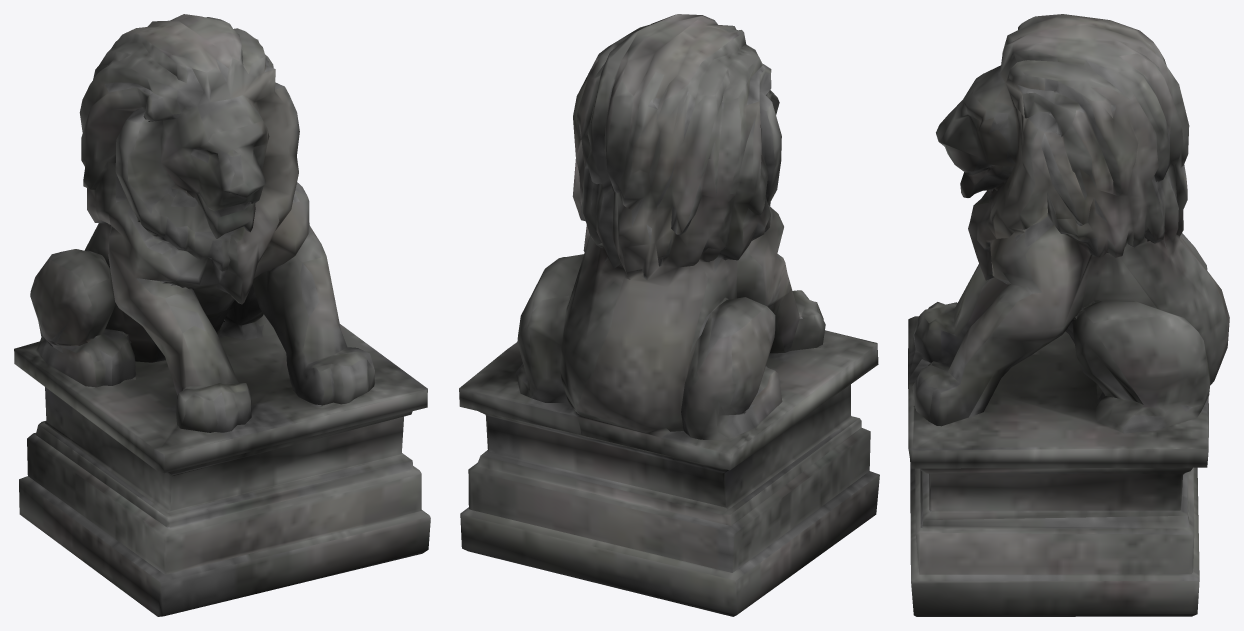
The model's file is rustic-granite-throne-v001.glb.
3 renders of one model, left to right at view 1: azimuth 30°, elevation 25°; view 2: azimuth 150°, elevation 25°; view 3: azimuth 270°, elevation 25°, orthographic. The views are drawn at different scales.
Visible parts, largest first — view 1: rustic-granite-throne; view 2: rustic-granite-throne; view 3: rustic-granite-throne.
Part boxes in pixels (left/top/right/bottom): rustic-granite-throne: left=14, top=14, right=430, bottom=616; rustic-granite-throne: left=459, top=14, right=879, bottom=616; rustic-granite-throne: left=908, top=14, right=1229, bottom=616.
Bounding box in the file's own units: 0.8133 × 1.45 × 0.8218.
1 material, 1 textured.
